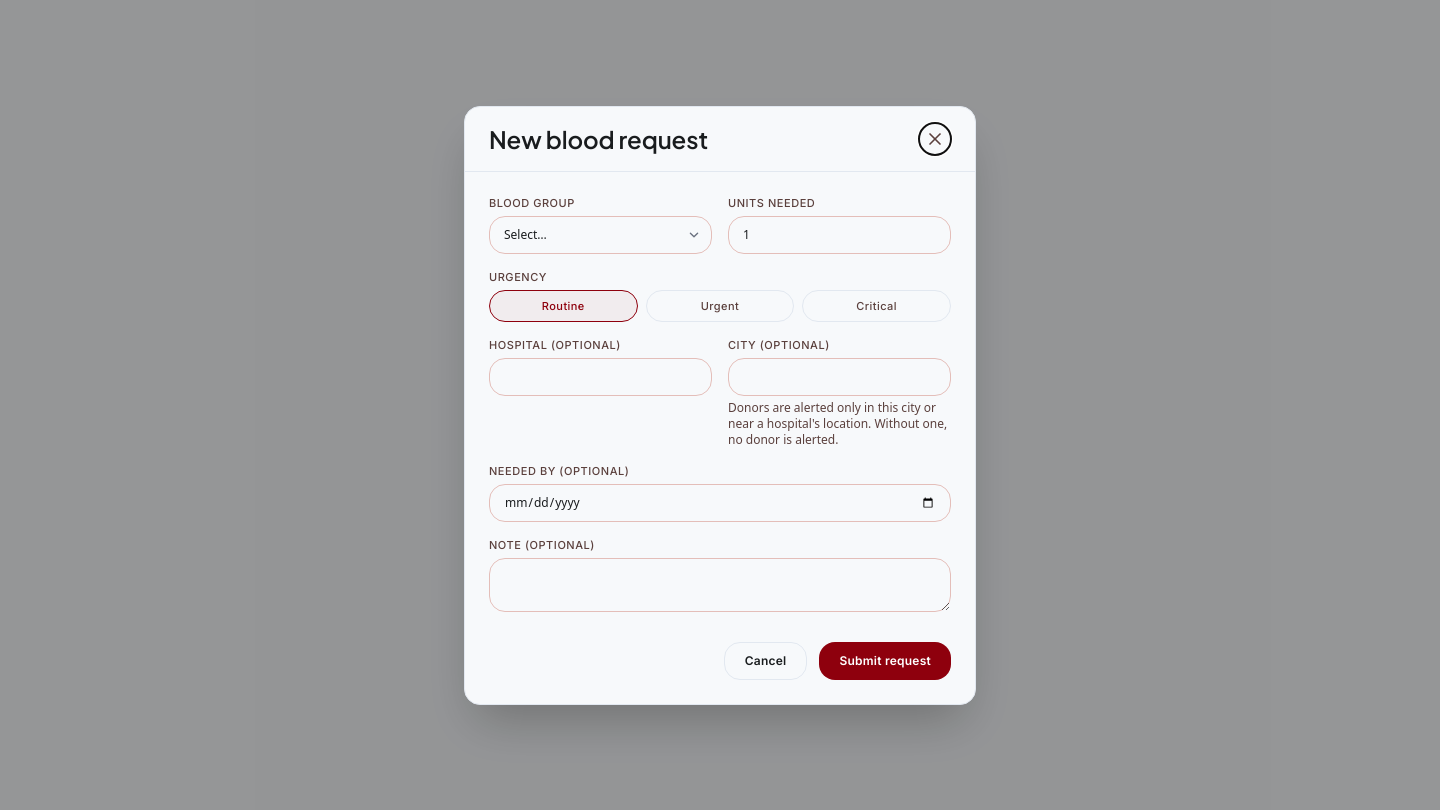
Scenario: BloodRequestModal › surfaces a real 429 through the existing normalized error mechanism, not a second status-message system
This screenshot has width=1440, height=810.
Select "O-" in the dropdown labelled "Blood group" at (600, 234), box [489,216,712,254]
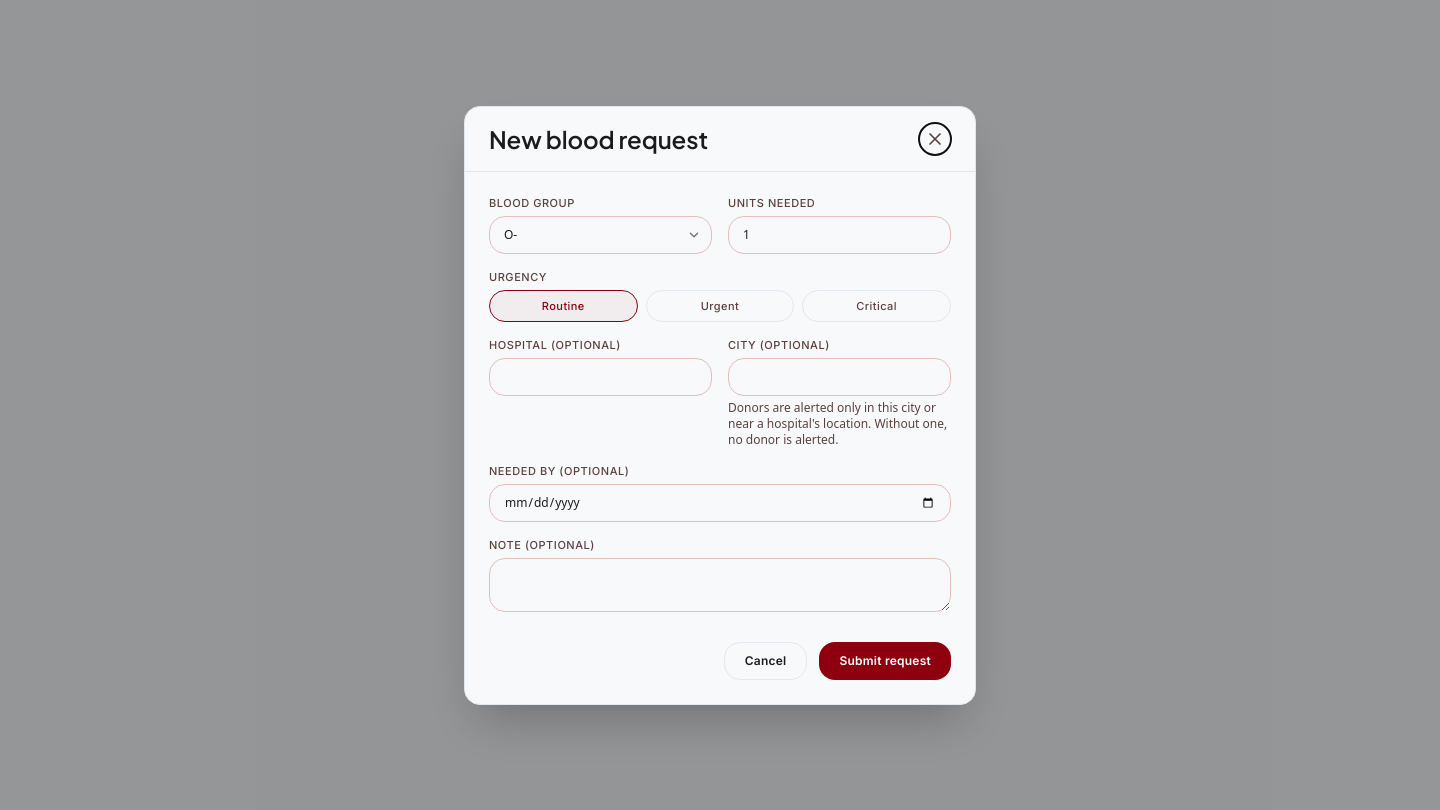
Click the button "Submit request" at (885, 660), box [819,642,951,680]
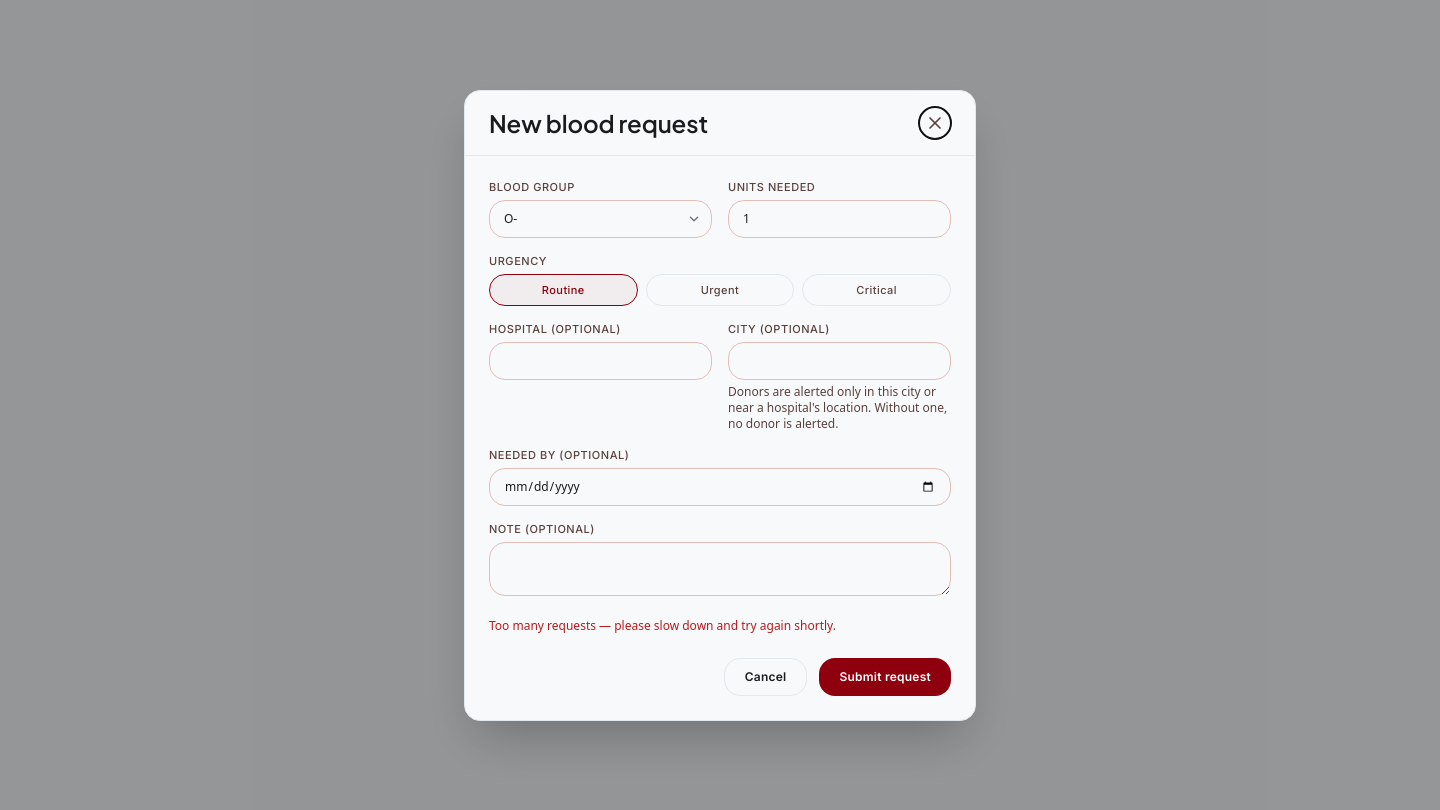
Now the text "Too many requests — please slow down and try again shortly." is shown, box [489,616,836,634]
